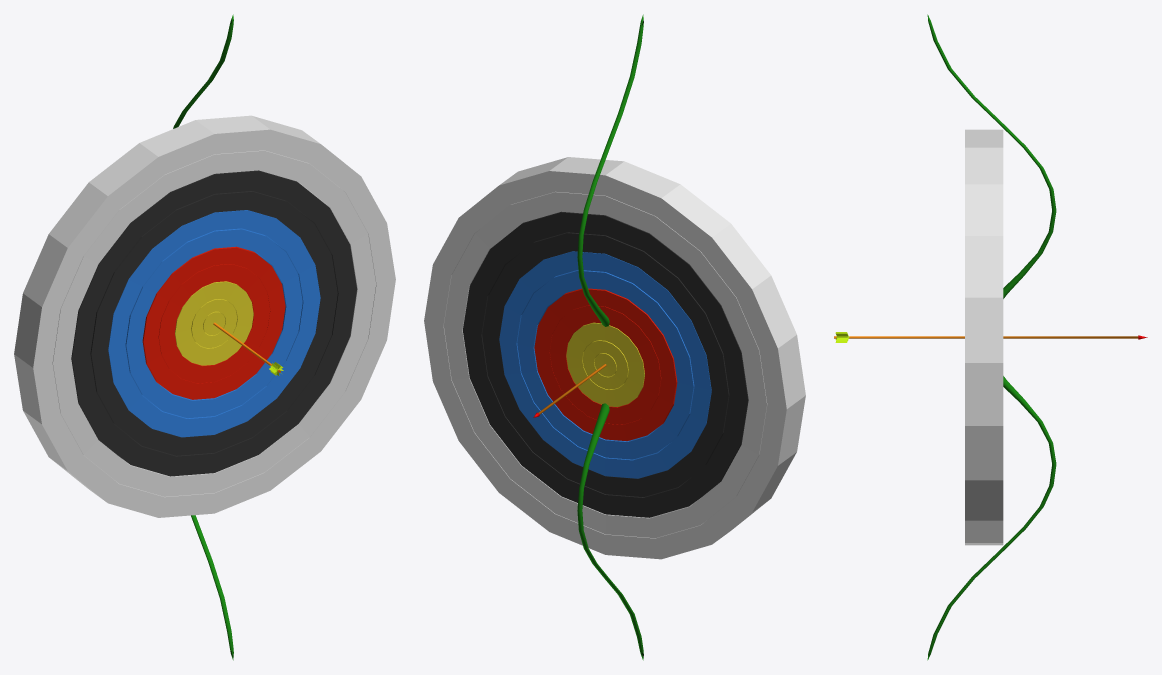
Rendered from archery.glb.
3 renders of one model, left to right at view 1: azimuth 30°, elevation 25°; view 2: azimuth 150°, elevation 25°; view 3: azimuth 270°, elevation 25°, orthographic.
Parts seen in each view (by area): view 1: 1, 2, 3, 4, 5, 6, 7, 8, 9, bow, 10; view 2: 1, 2, 3, 4, 5, 6, 7, 8, bow, 9, 10; view 3: 1, bow, arrow.
Part boxes in pixels (<box>): 1: <box>14,115,395,517</box>; 2: <box>52,150,376,496</box>; 3: <box>71,170,356,476</box>; 4: <box>90,191,337,455</box>; 5: <box>108,210,320,437</box>; 6: <box>125,228,302,418</box>; 7: <box>142,246,285,399</box>; 8: <box>158,264,270,383</box>; 9: <box>175,281,253,365</box>; bow: <box>173,14,233,660</box>; 10: <box>191,299,237,347</box>; 1: <box>424,157,805,559</box>; 2: <box>443,191,767,538</box>; 3: <box>463,211,748,517</box>; 4: <box>482,232,729,497</box>; 5: <box>499,251,711,478</box>; 6: <box>517,270,694,459</box>; 7: <box>534,288,677,441</box>; 8: <box>549,305,661,424</box>; bow: <box>577,14,643,660</box>; 9: <box>566,322,644,406</box>; 10: <box>582,340,628,389</box>; 1: <box>965,129,1003,545</box>; bow: <box>927,14,1056,660</box>; arrow: <box>834,332,1147,342</box>.
Size of the model in its own units: 0.9731 by 1.66 by 0.7288.
7 materials, 2 textured.
